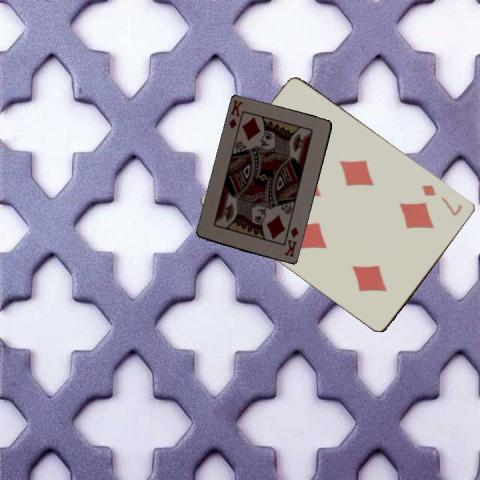7d: (419, 181, 464, 218)
Kd: (226, 96, 245, 136), (282, 223, 300, 259)
